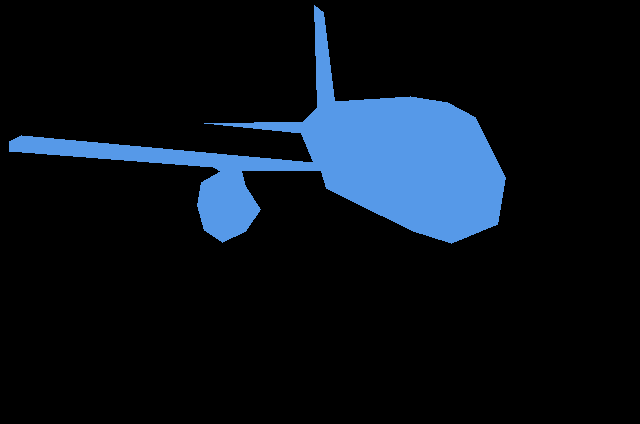Airplane: (9, 5, 506, 243)
